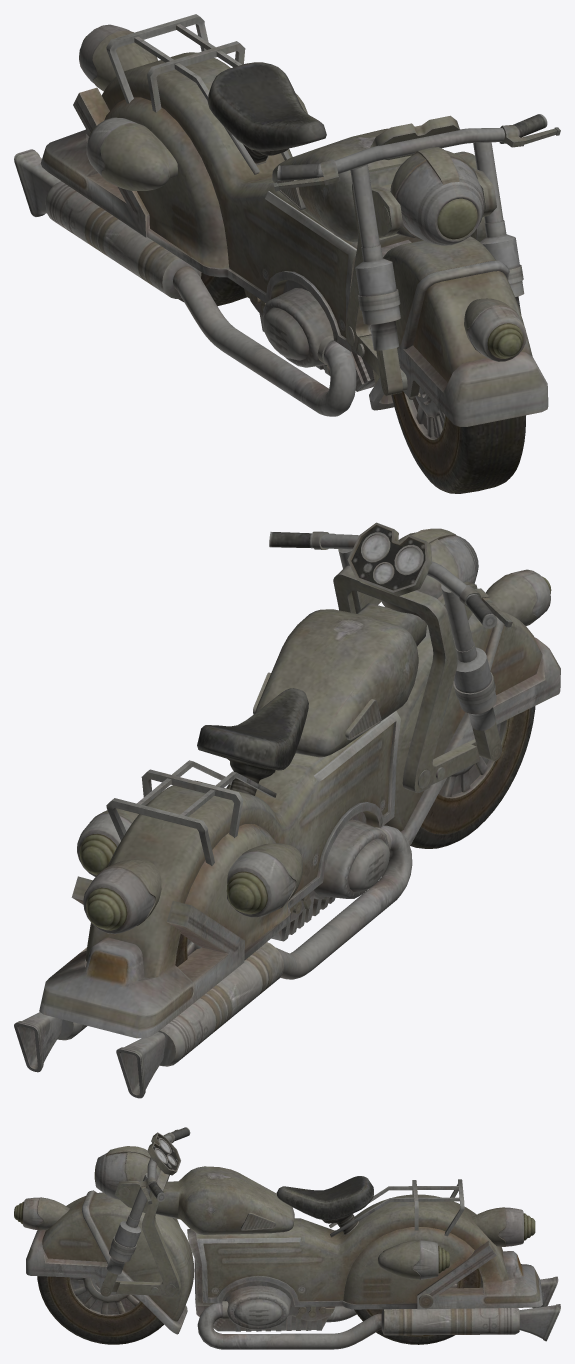
3 renders of one model, top to bottom at view 1: azimuth 30°, elevation 25°; view 2: azimuth 150°, elevation 25°; view 3: azimuth 270°, elevation 25°, orthographic. The views are drawn at different scales.
Parts seen in each view (by area): view 1: FalloutMoto_0.001MeshLOD0; view 2: FalloutMoto_0.001MeshLOD0; view 3: FalloutMoto_0.001MeshLOD0.
Part boxes in pixels (x1=…): FalloutMoto_0.001MeshLOD0: x1=14, y1=14, x2=560, y2=493; FalloutMoto_0.001MeshLOD0: x1=14, y1=522, x2=560, y2=1098; FalloutMoto_0.001MeshLOD0: x1=14, y1=1127, x2=560, y2=1349.
Size of what is drawn, in the model's own units: 0.7435 by 0.9027 by 2.23.
Materials: 1 (1 with a texture image).
